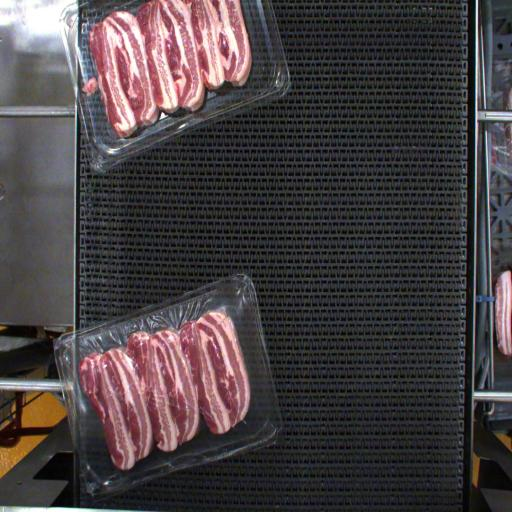unsealed: (63, 284, 276, 450)
